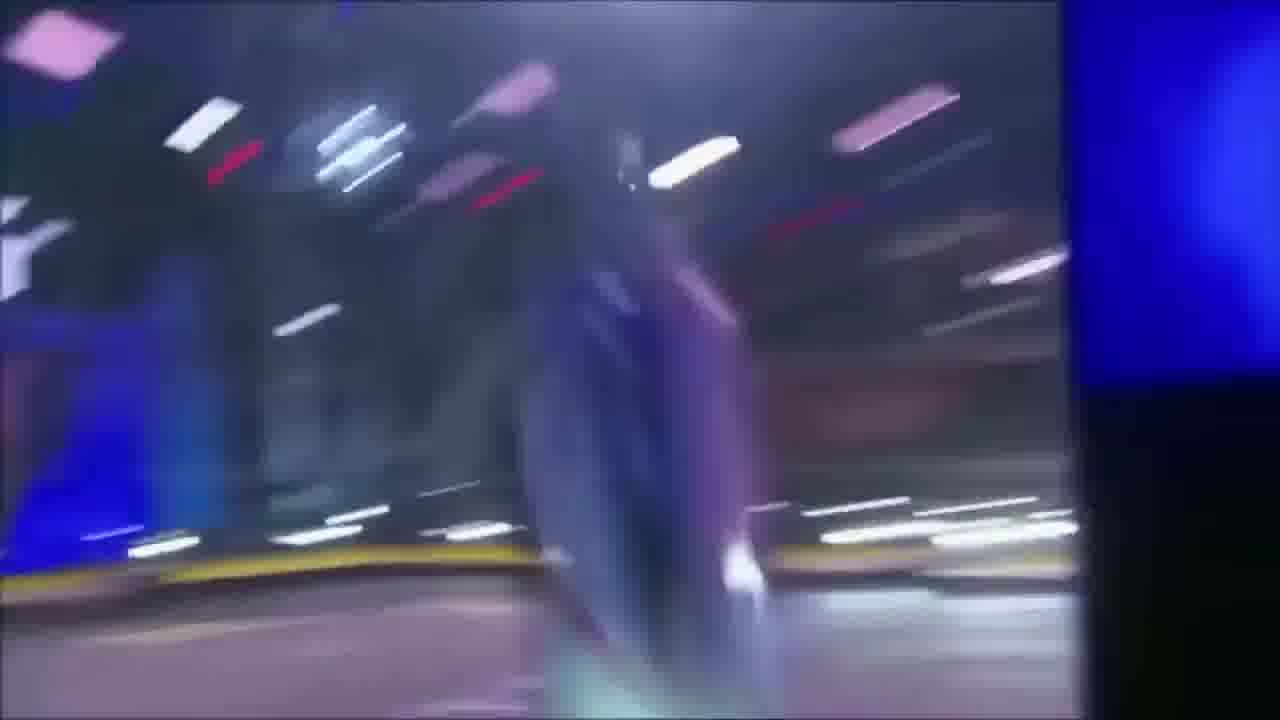combatbot: (510, 124, 794, 700)
